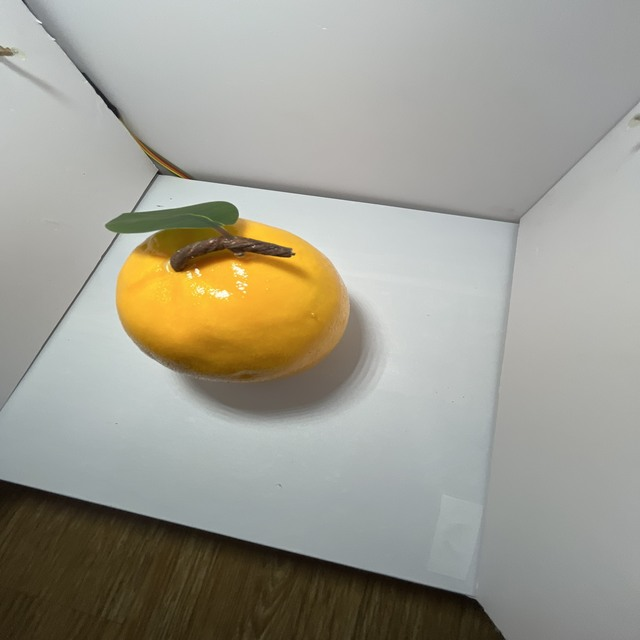Cam vang: (112, 205, 356, 387)
